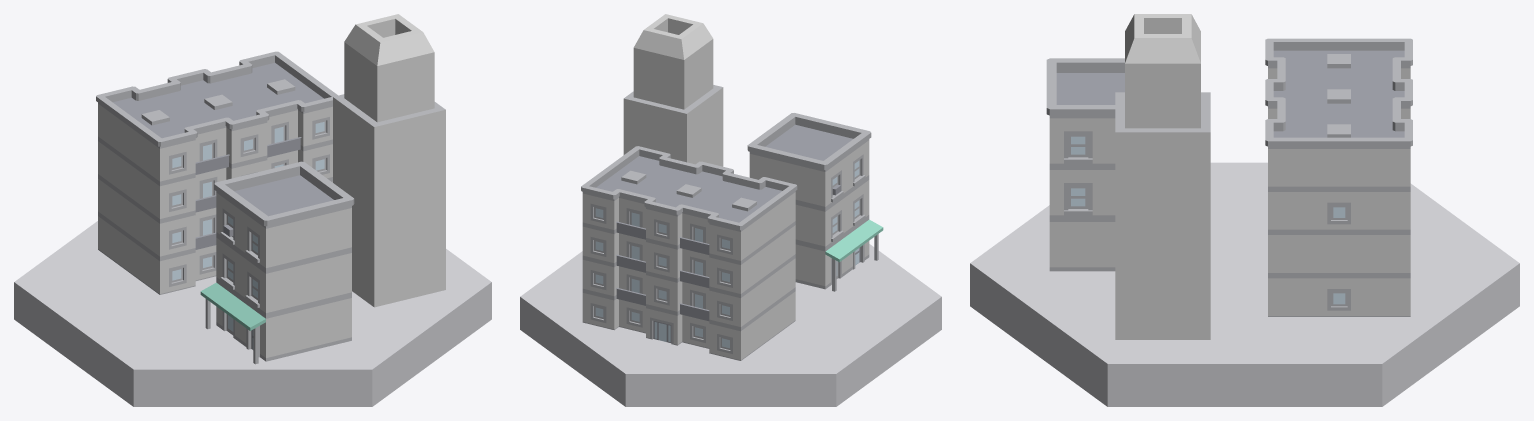
The model's file is 3_buildings_1_low.fbx.
The picture shows the model from 3 angles, left to right: view 1: azimuth 30°, elevation 25°; view 2: azimuth 150°, elevation 25°; view 3: azimuth 270°, elevation 25°; orthographic projection. The views are drawn at different scales.
Parts seen in each view (by area): view 1: pavement_low.010, large_buildingA.001, low_buildingH.001, small_buildingD.001; view 2: large_buildingA.001, pavement_low.010, small_buildingD.001, low_buildingH.001; view 3: pavement_low.010, large_buildingA.001, low_buildingH.001, small_buildingD.001.
Boxes of the visible parts, bbox=[...] form: pavement_low.010: bbox=[14, 221, 491, 406]; large_buildingA.001: bbox=[96, 51, 337, 294]; low_buildingH.001: bbox=[333, 14, 445, 307]; small_buildingD.001: bbox=[200, 161, 354, 364]; large_buildingA.001: bbox=[581, 146, 797, 360]; pavement_low.010: bbox=[520, 244, 941, 406]; small_buildingD.001: bbox=[747, 113, 883, 291]; low_buildingH.001: bbox=[623, 14, 723, 166]; pavement_low.010: bbox=[970, 162, 1519, 406]; large_buildingA.001: bbox=[1265, 38, 1412, 316]; low_buildingH.001: bbox=[1115, 14, 1210, 339]; small_buildingD.001: bbox=[1046, 58, 1124, 271].
Size of the model in its own units: 100 by 78.08 by 115.
